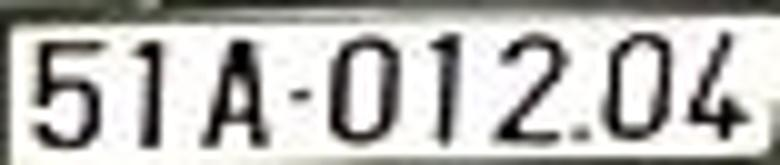-: (284, 85, 314, 105)
.: (569, 122, 592, 144)
0: (328, 35, 402, 145), (604, 33, 676, 139)
1: (128, 37, 169, 156), (427, 27, 463, 154)
2: (489, 30, 562, 149)
4: (681, 31, 752, 145)
5: (36, 39, 106, 150)
A: (197, 38, 273, 153)
